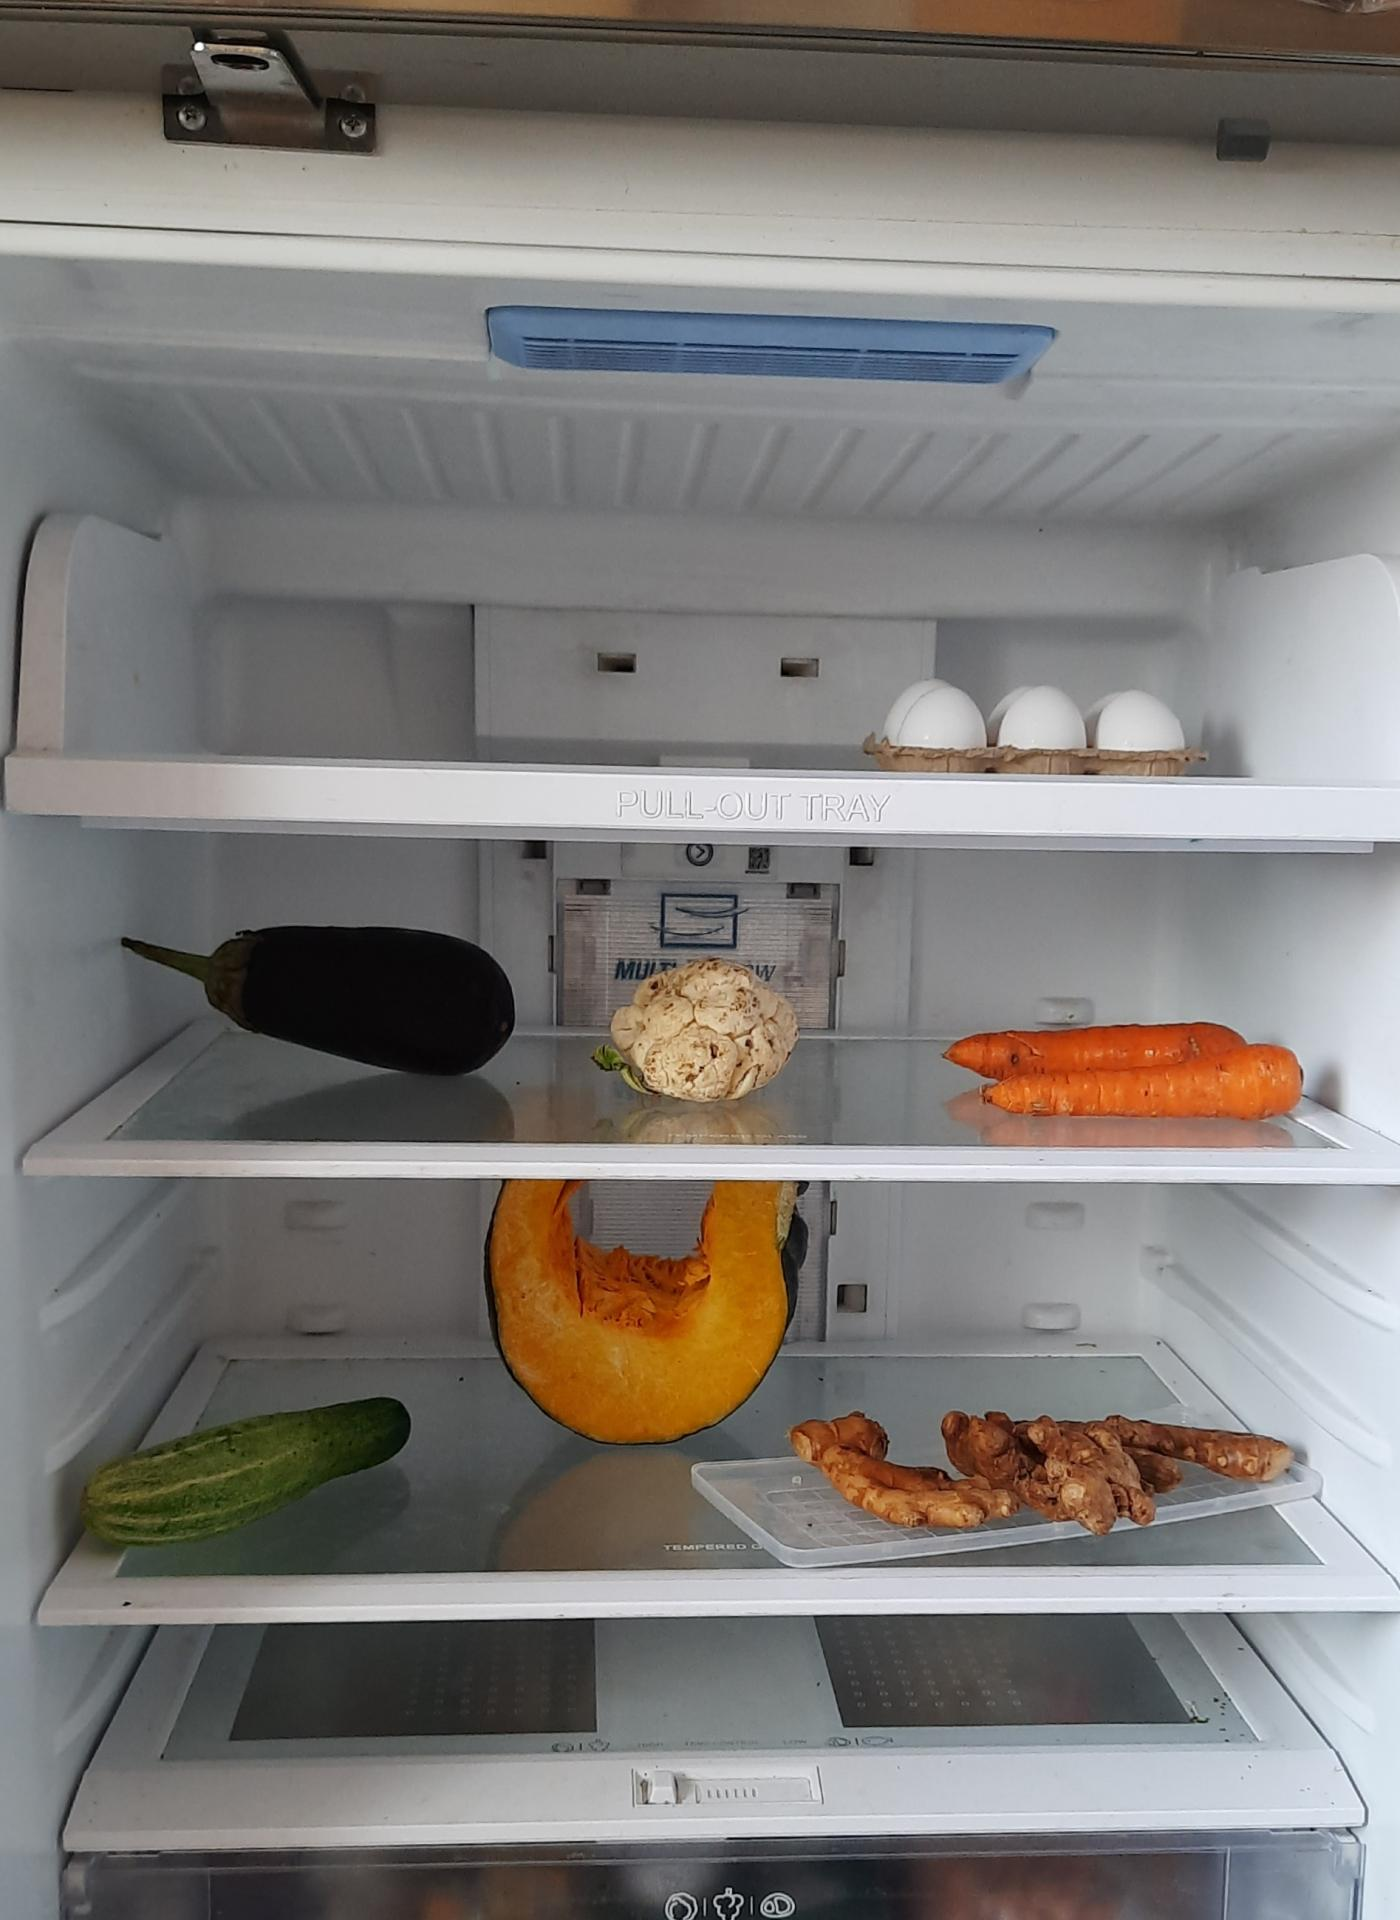brinjal: (110, 911, 525, 1091)
carrots: (944, 1017, 1317, 1115)
cauliflower: (608, 964, 805, 1102)
cucumber: (82, 1403, 414, 1550)
egg: (869, 683, 1191, 771)
ginger: (796, 1388, 1294, 1525)
pumpkin: (480, 1175, 820, 1468)
